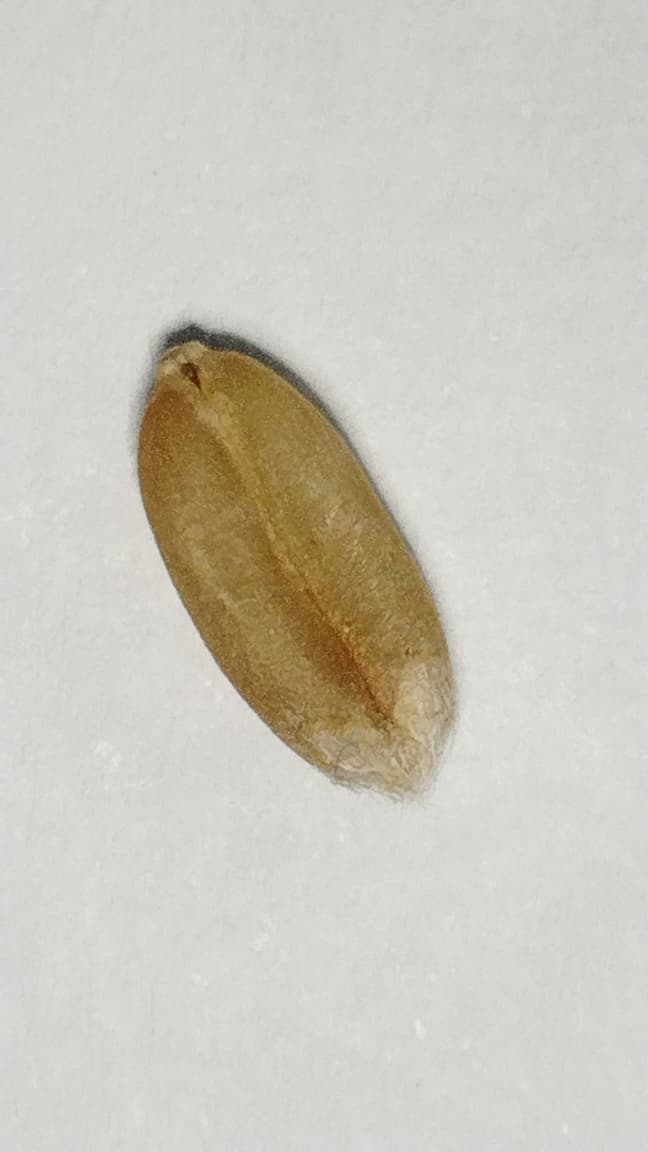healthy: (138, 329, 458, 798)
